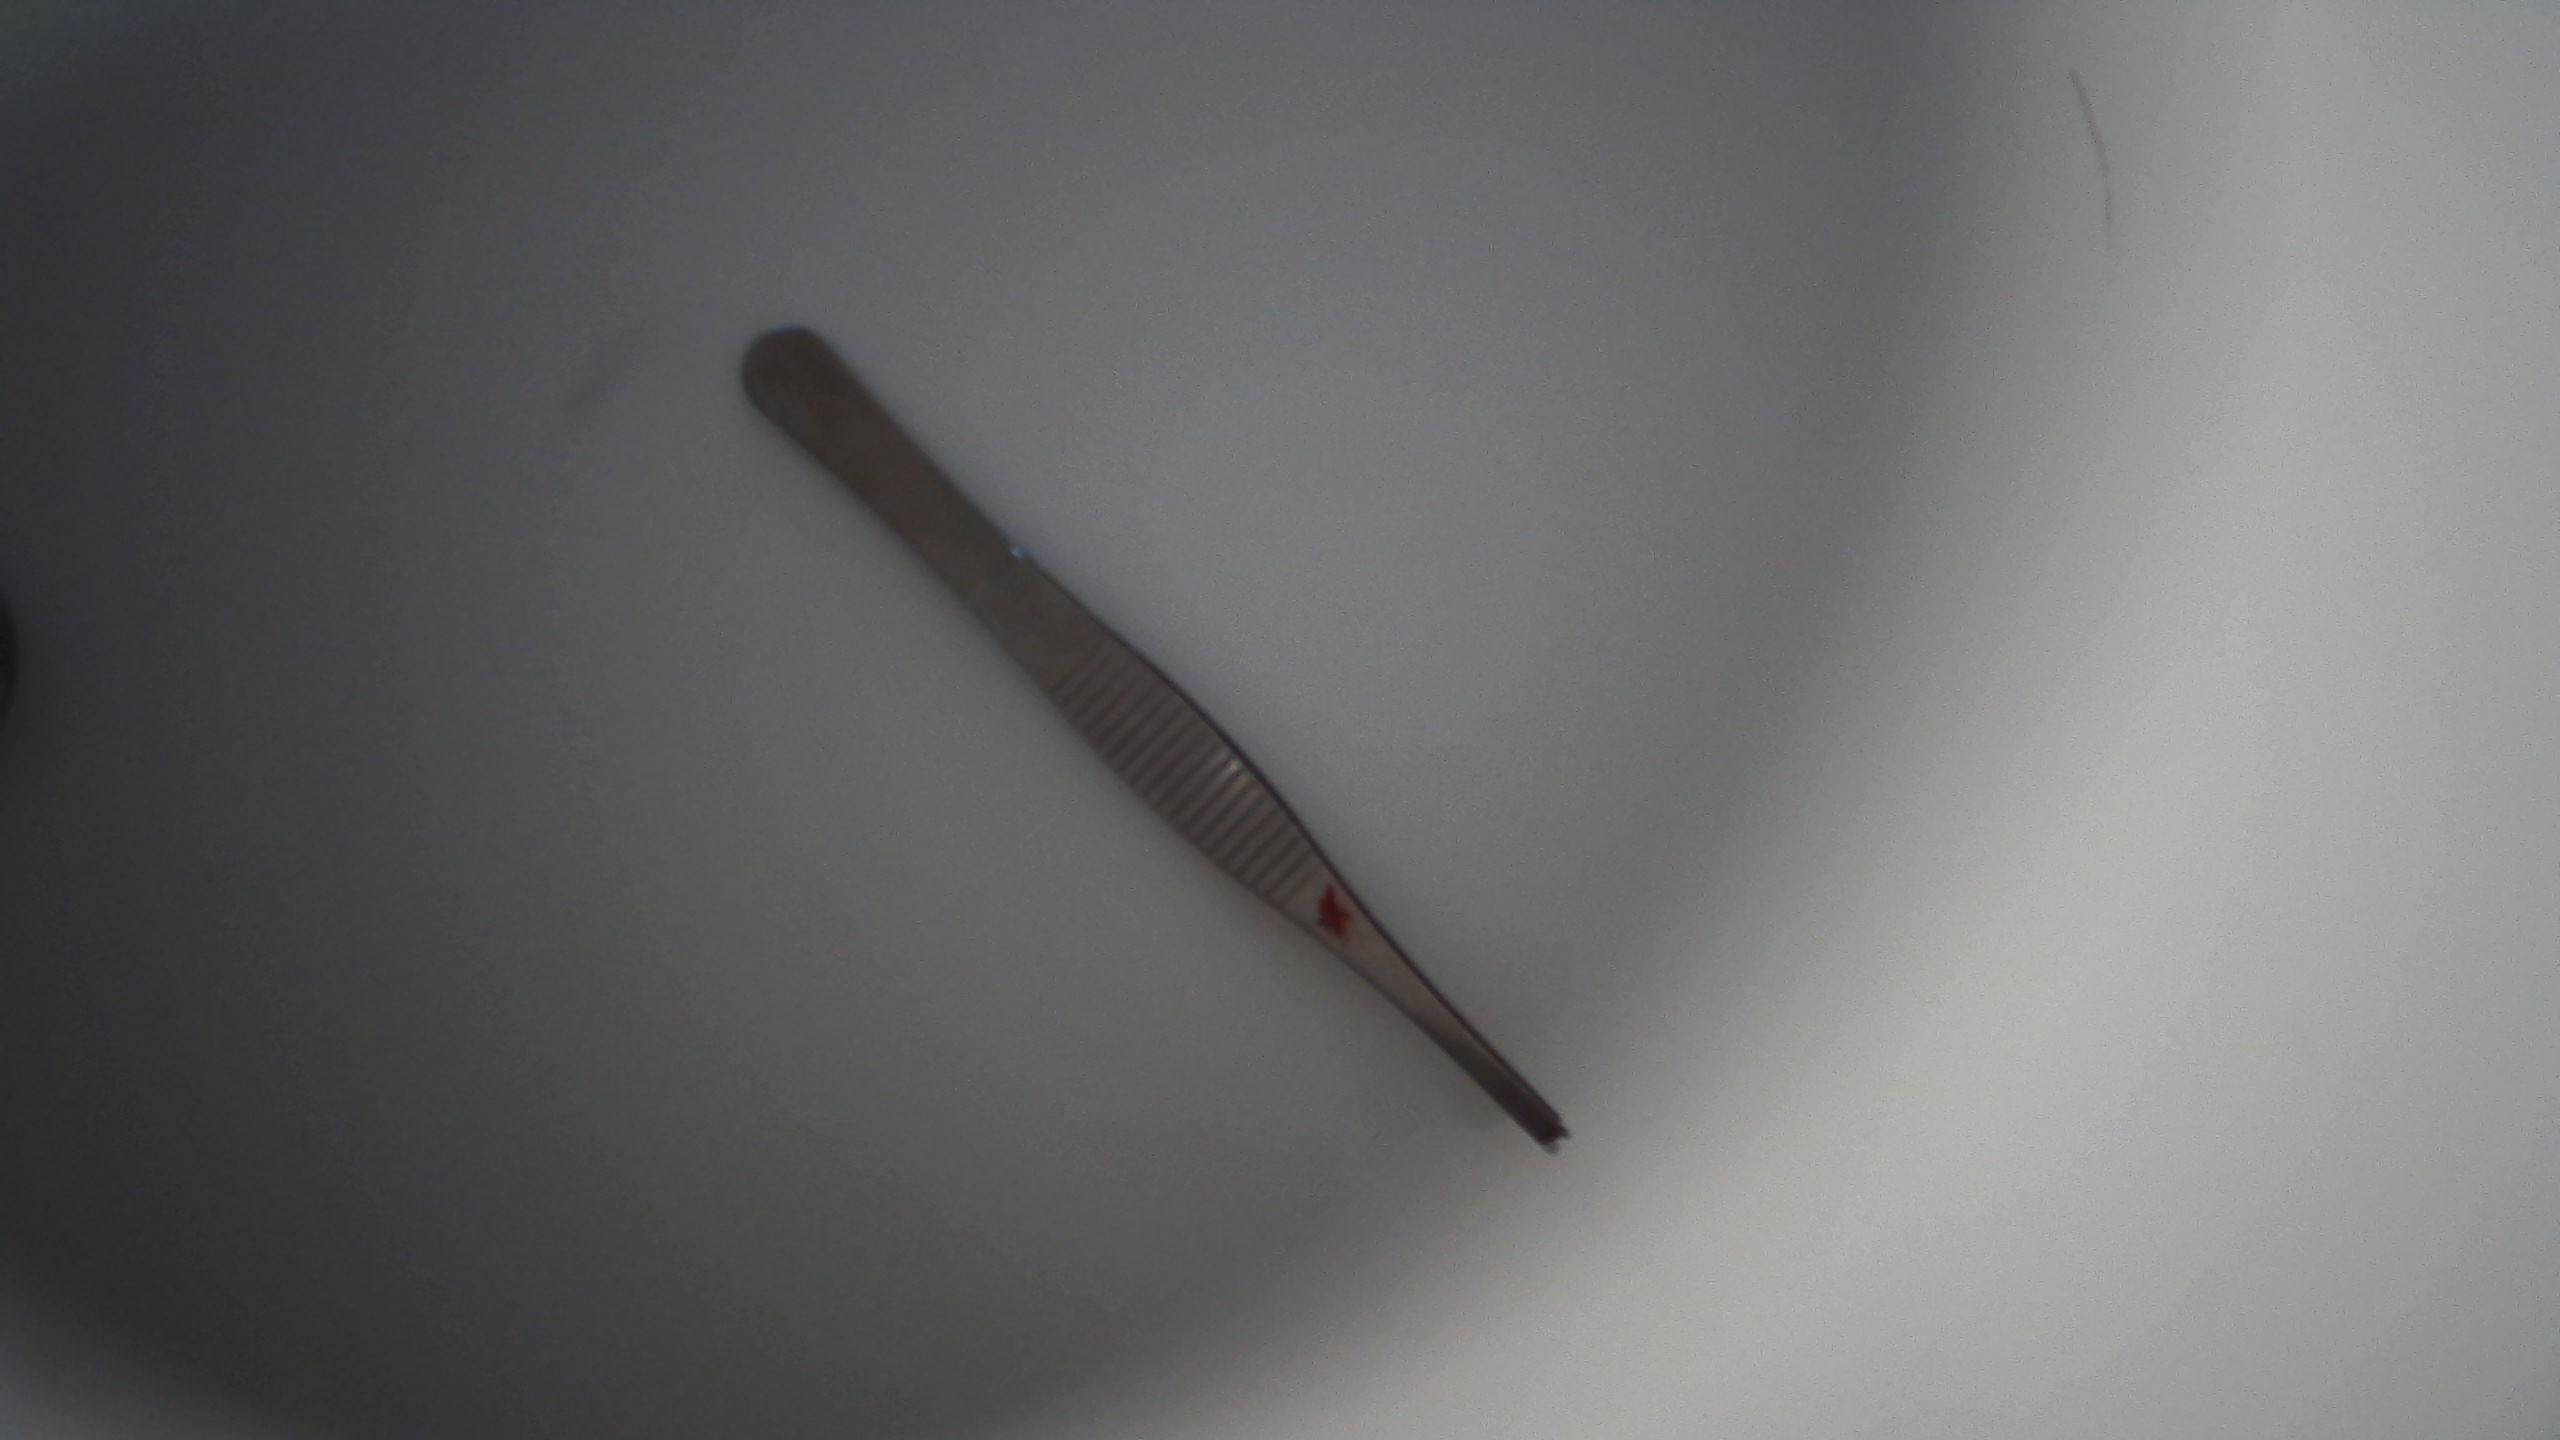Stain: (1310, 884, 1356, 944)
